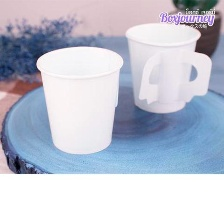paper_cup: (32, 42, 125, 157), (122, 18, 216, 117)
